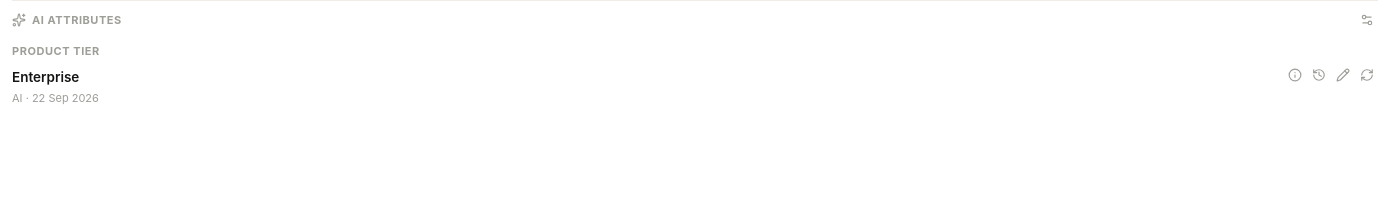
AIAttributesPanel › lets a person override, and marks the row as theirs
This screenshot has width=1390, height=197.
Expected: the text "Enterprise" is shown, [12,68,79,84]
Click the button named "Edit Product tier" at (1343, 74), box [1332,64,1354,86]
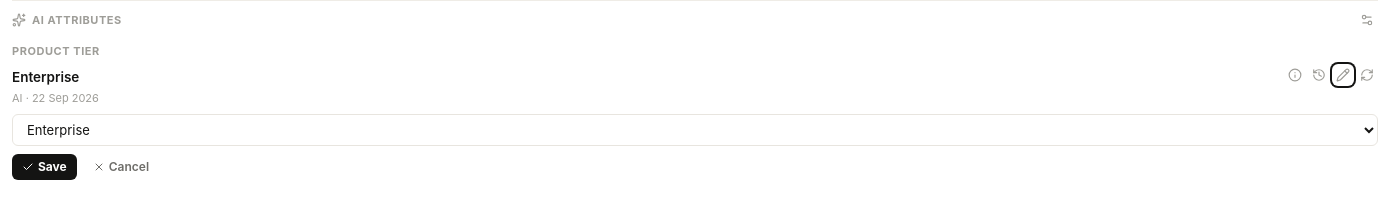
Select "SMB" in the dropdown named "Product tier" at (695, 130), box [12,114,1378,146]
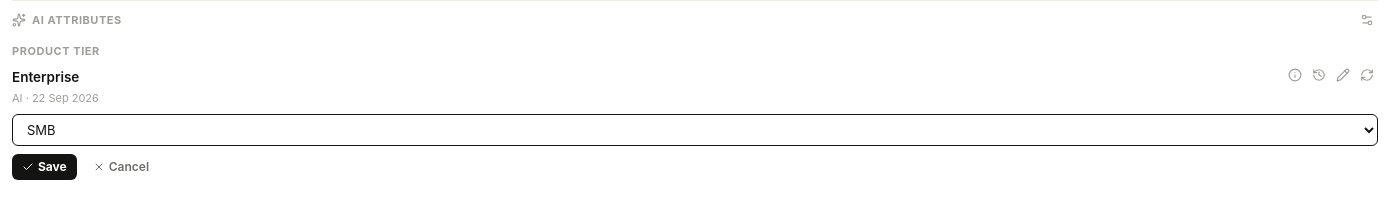
Click the button "Save" at (44, 167), box [12,154,77,180]
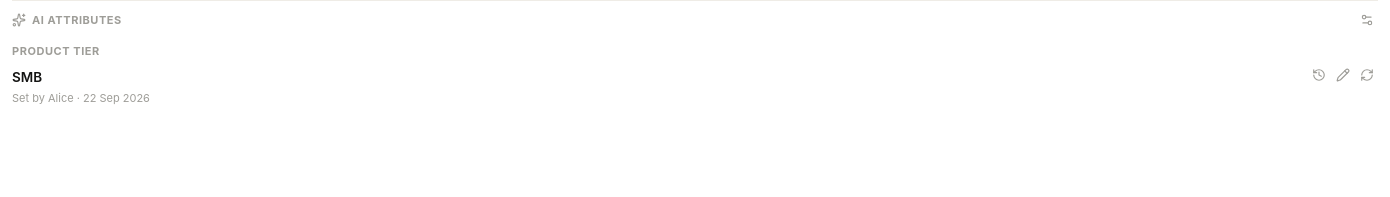
Expected: the text "SMB" is shown, [12,68,42,84]
Expected: the text "Set by Alice" is shown, [12,90,74,104]
